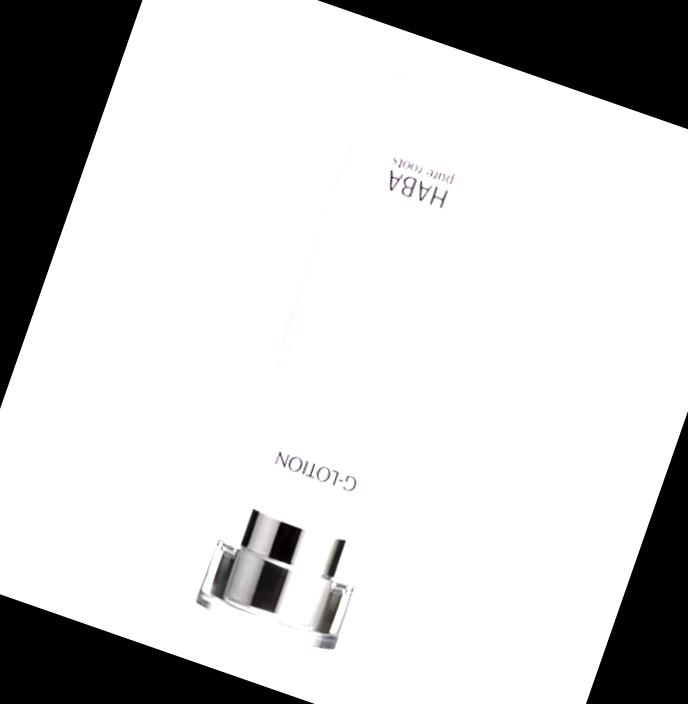cosmetic: (183, 63, 526, 656)
